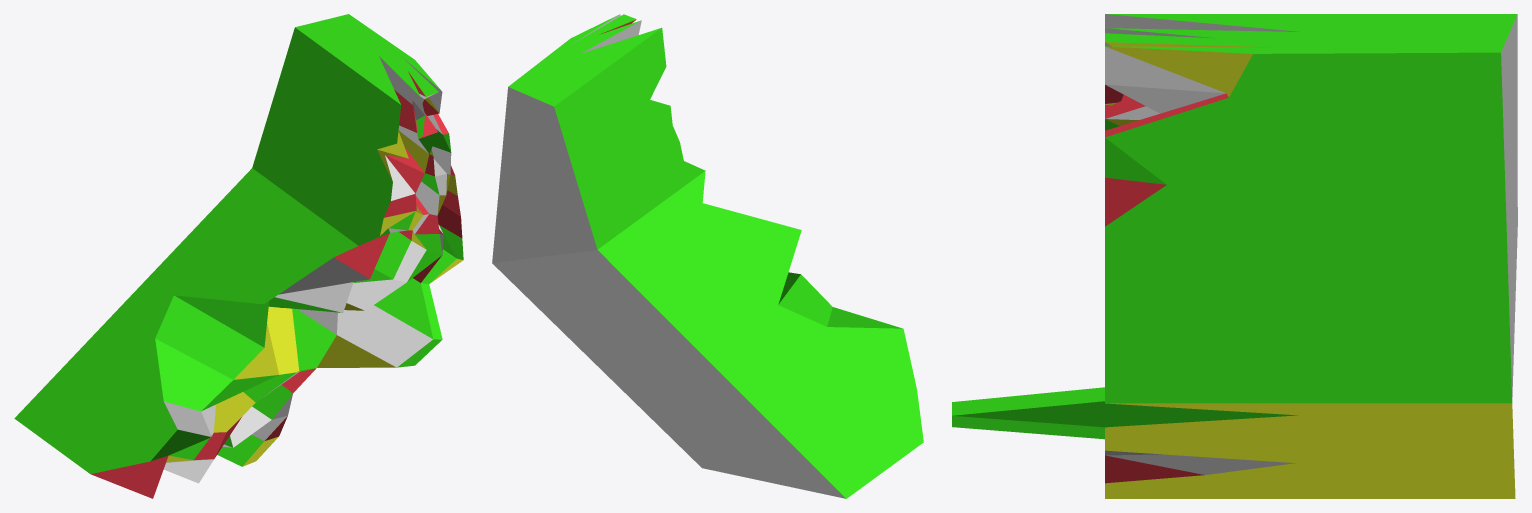
3 renders of one model, left to right at view 1: azimuth 30°, elevation 25°; view 2: azimuth 150°, elevation 25°; view 3: azimuth 270°, elevation 25°, orthographic. The views are drawn at different scales.
Parts seen in each view (by area): view 1: 平面.001; view 2: 平面.001; view 3: 平面.001.
Part boxes in pixels (x1,y1,x2,y2): 平面.001: (14,14,463,498); 平面.001: (492,14,923,498); 平面.001: (952,14,1517,498).
Size of the model in its own units: 1352 by 1260 by 985.
